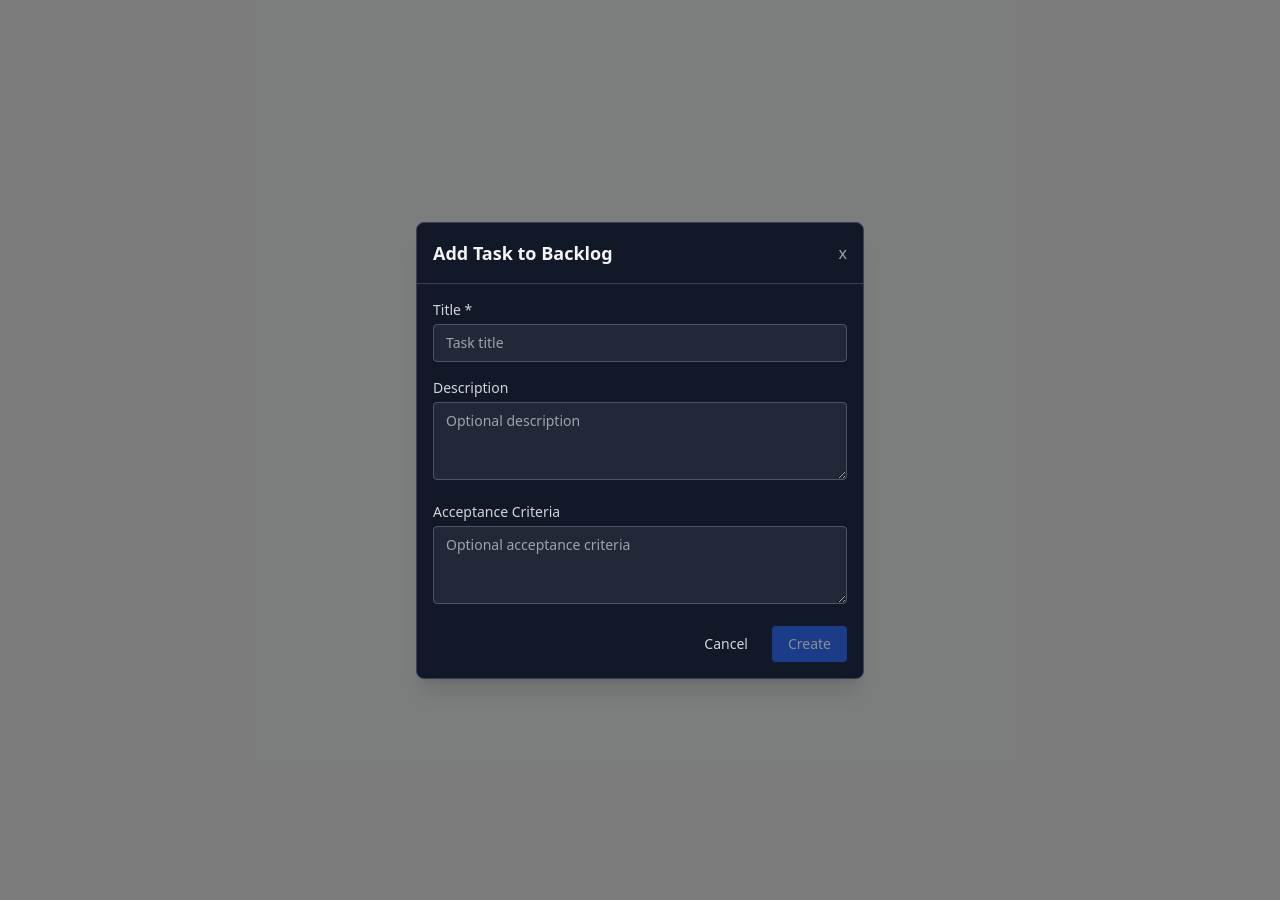
AddTaskModal › shows error on API failure
Type "Some task" into the field with test id "add-task-title-input" at (640, 342), box x1=433 y1=324 x2=847 y2=362
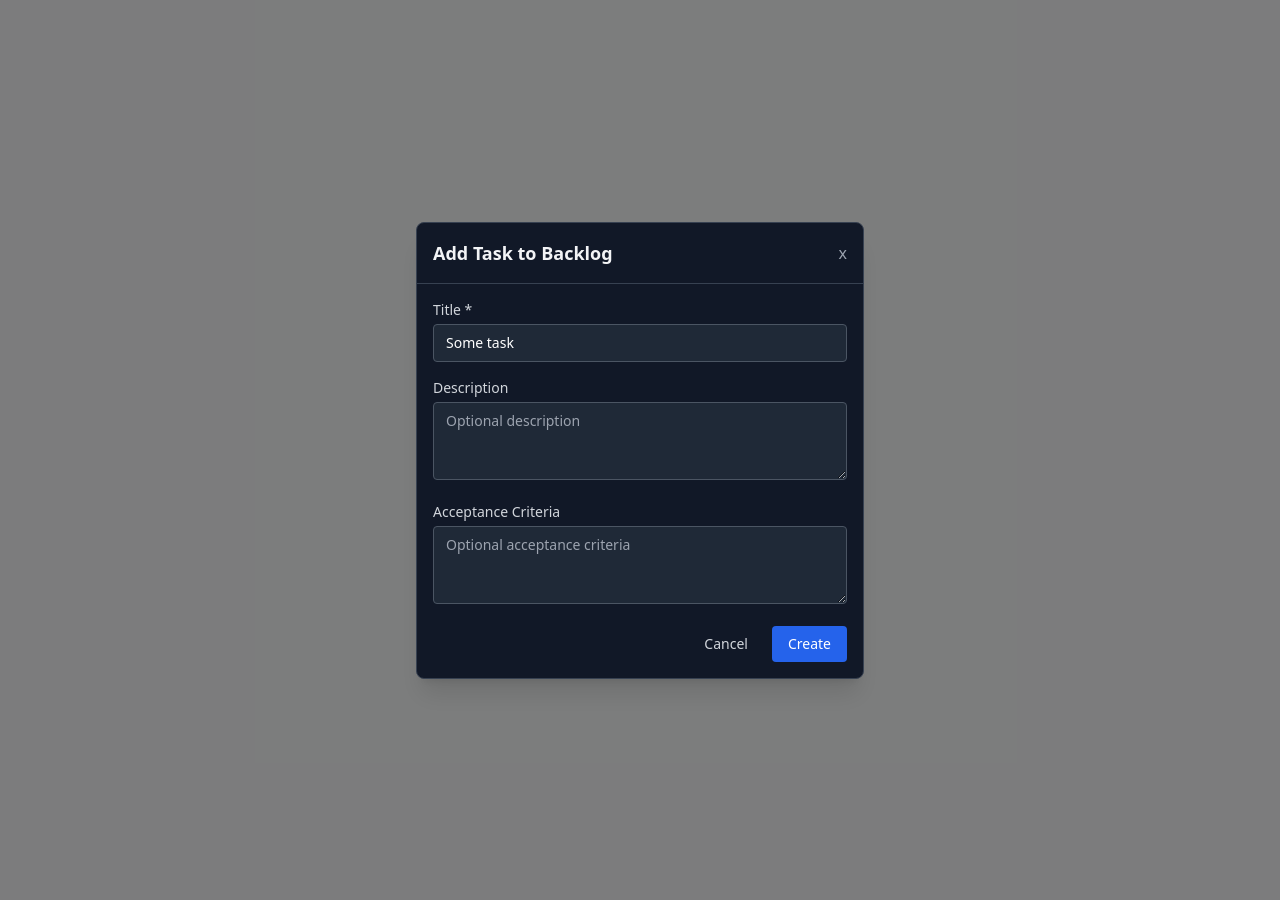
Click the button with test id "add-task-submit" at (809, 644), box x1=772 y1=626 x2=847 y2=662
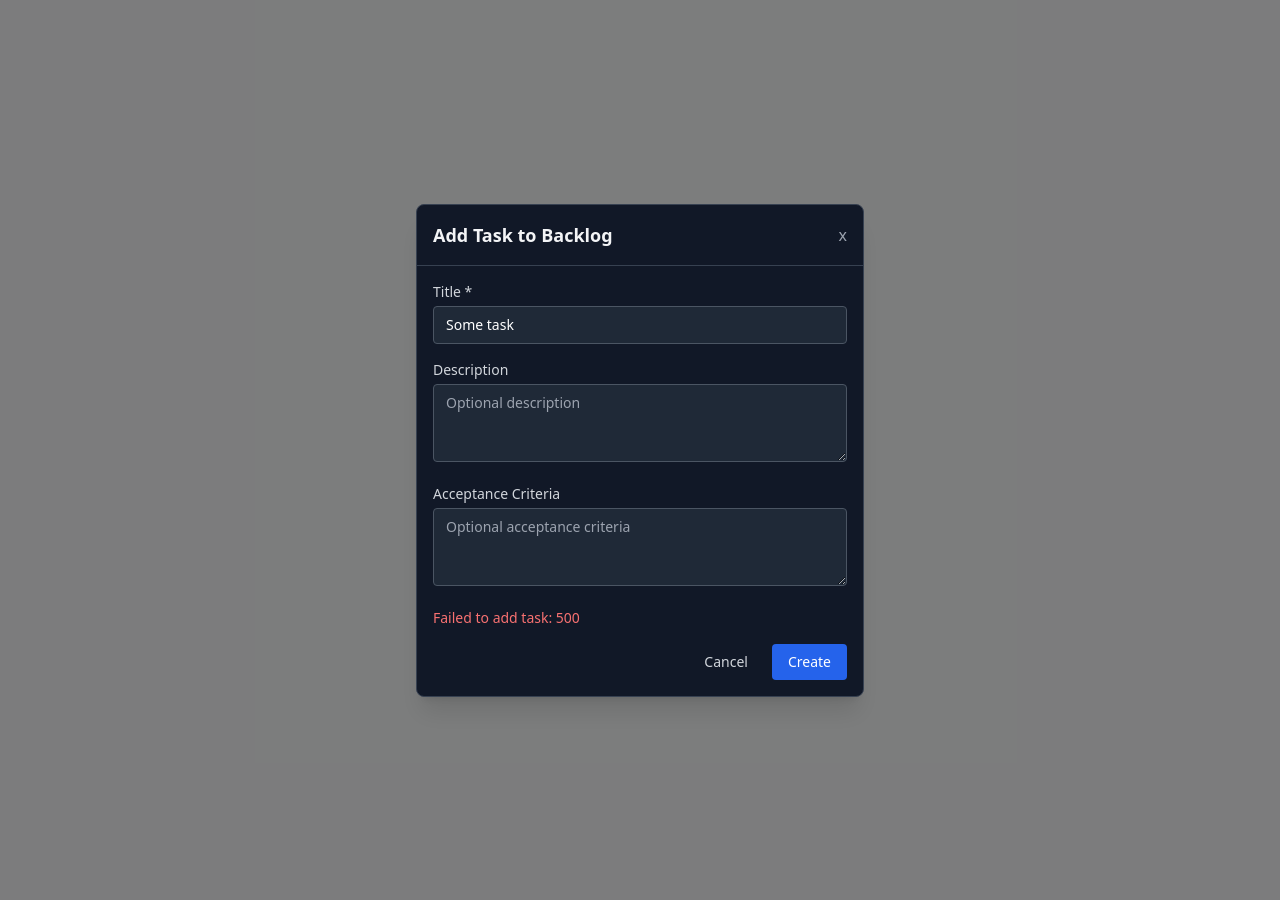
expect the text with test id "add-task-error" reads "Failed to add task: 500": met, box x1=433 y1=608 x2=580 y2=626
